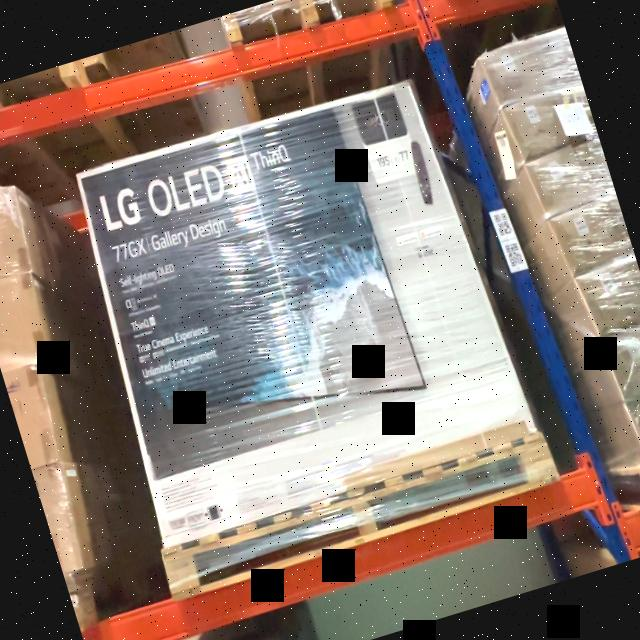box: (78, 83, 516, 540)
